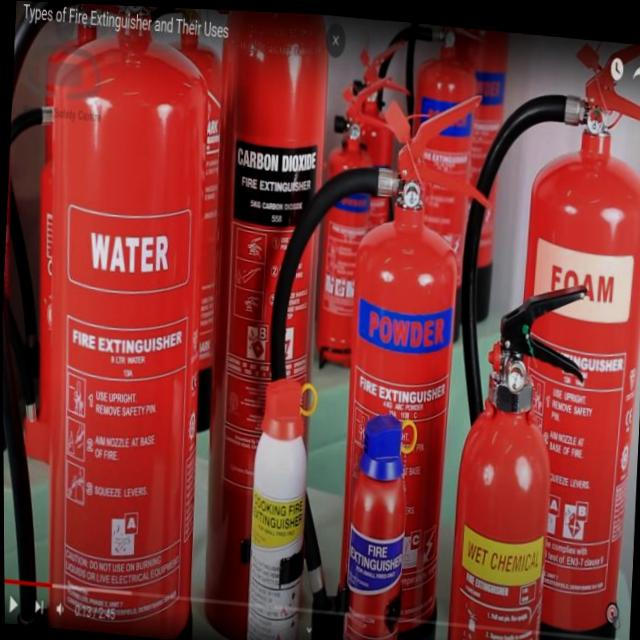FireExtinguisher: (0, 0, 229, 640), (433, 22, 640, 640), (185, 6, 335, 640), (437, 260, 596, 640), (355, 16, 481, 351), (321, 30, 420, 326), (307, 61, 398, 375), (237, 365, 316, 640), (334, 394, 414, 640)
